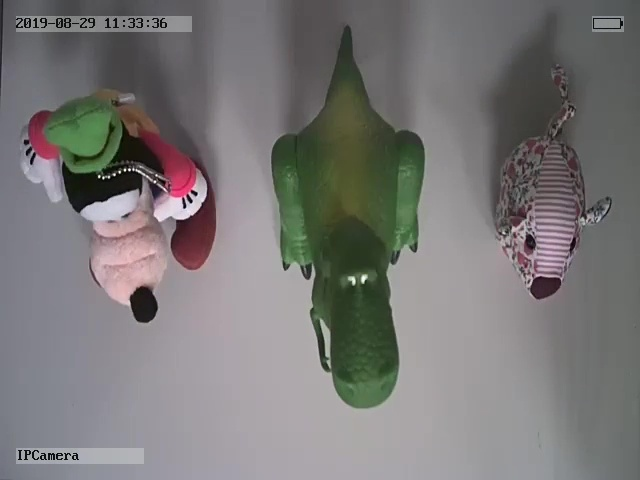goofy: (19, 92, 218, 327)
pig: (493, 61, 610, 302)
rex: (268, 25, 428, 411)
